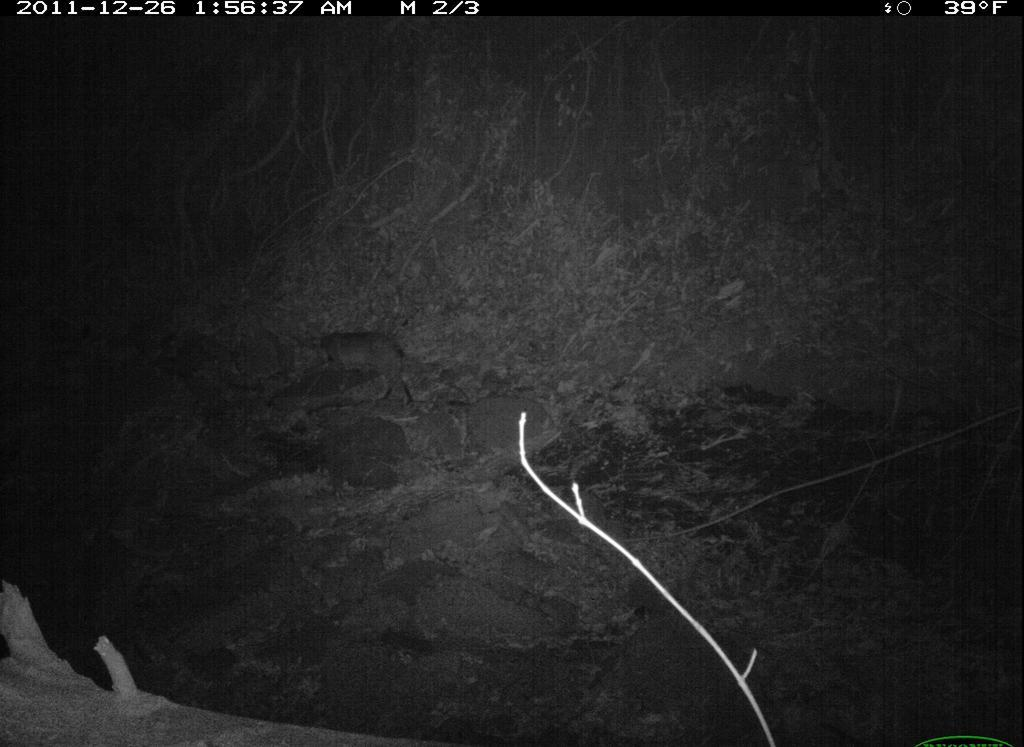bobcat: (315, 327, 417, 409)
